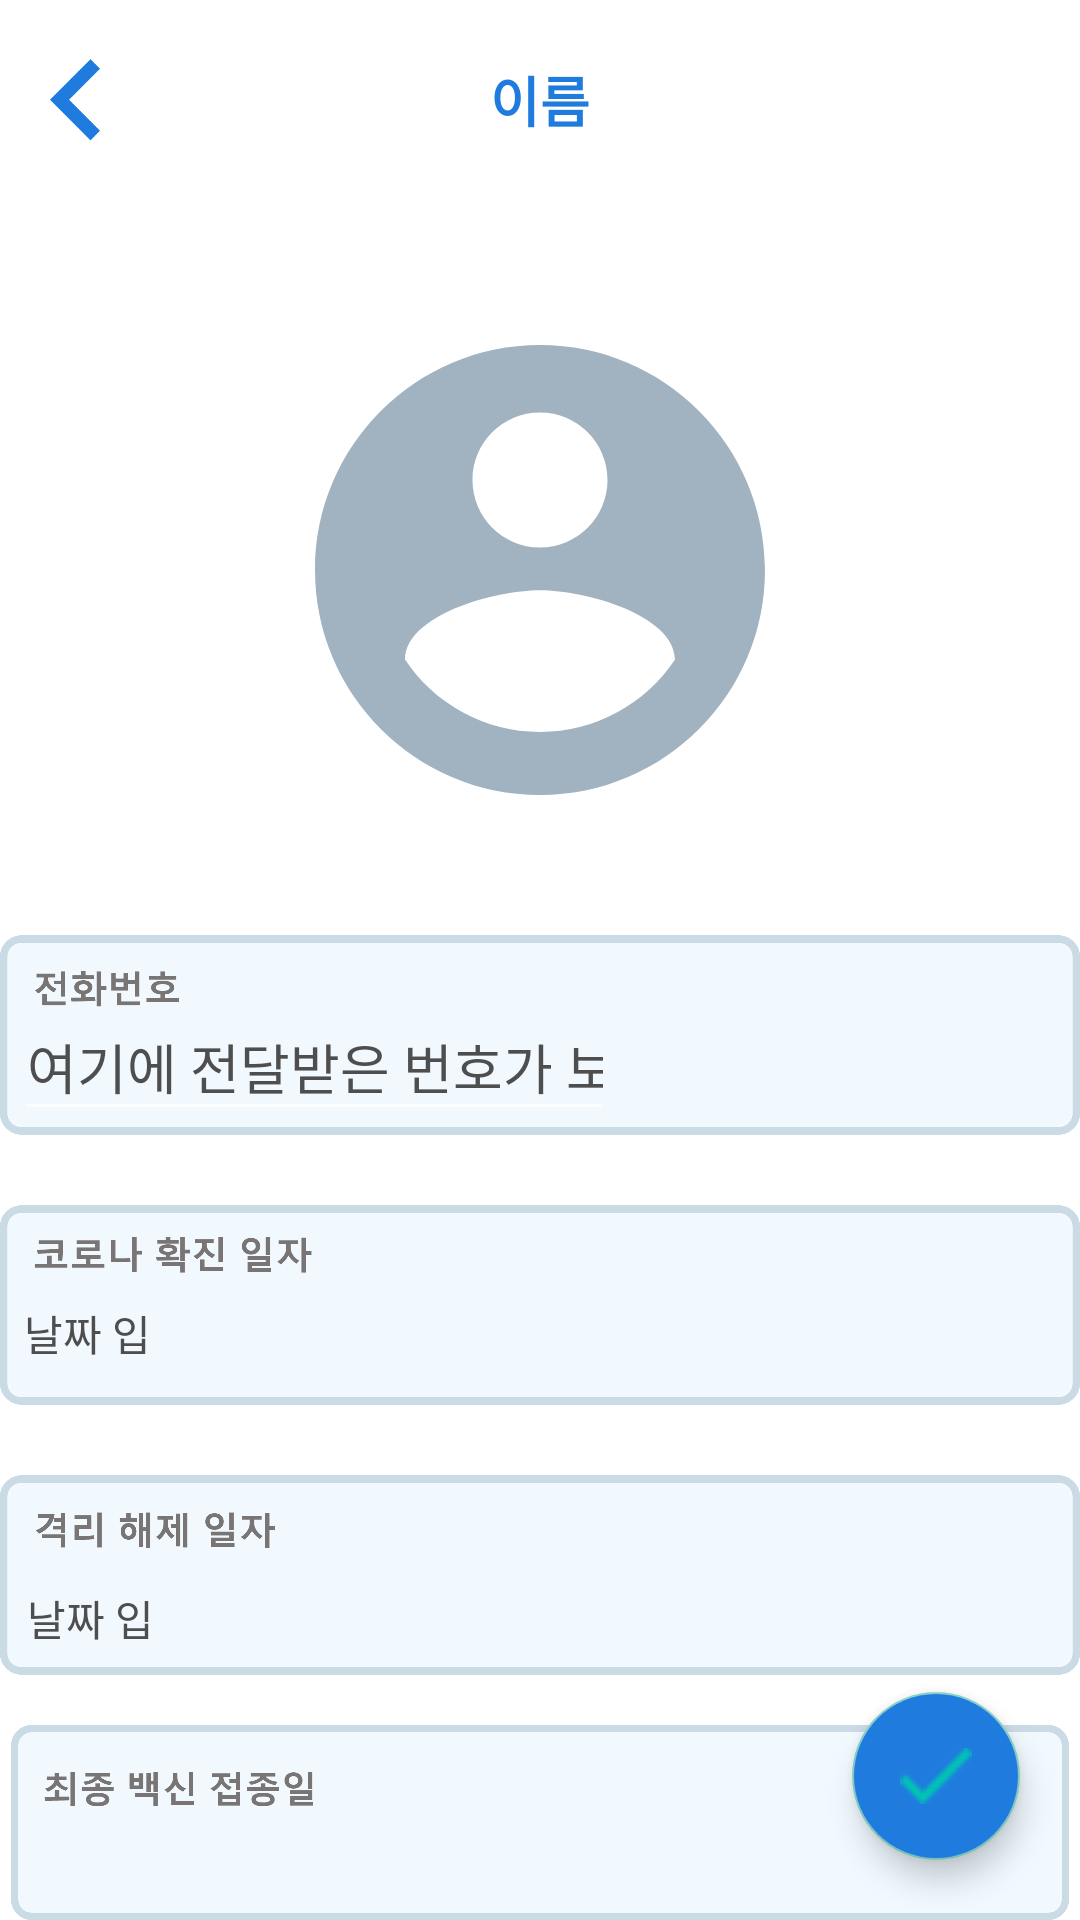

Icons on this 1080 x 1920 Android screen, each with the point to tap as (x=x, y=y):
back: (x=75, y=99)
